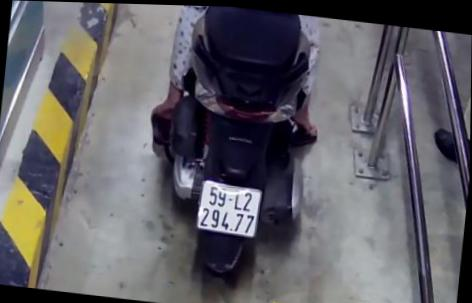LP: (195, 177, 263, 238)
